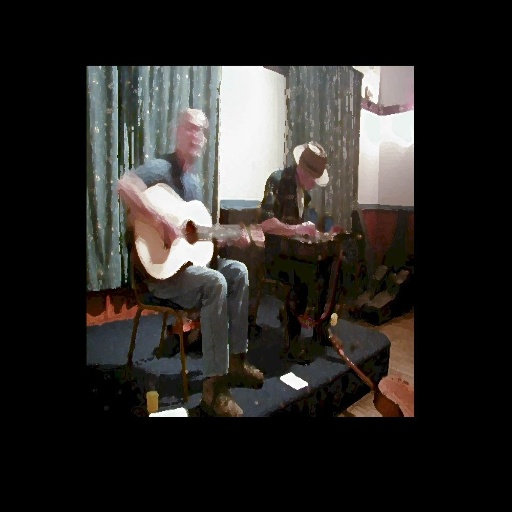hand: (232, 220, 251, 253), (159, 220, 181, 247), (299, 217, 318, 240)
